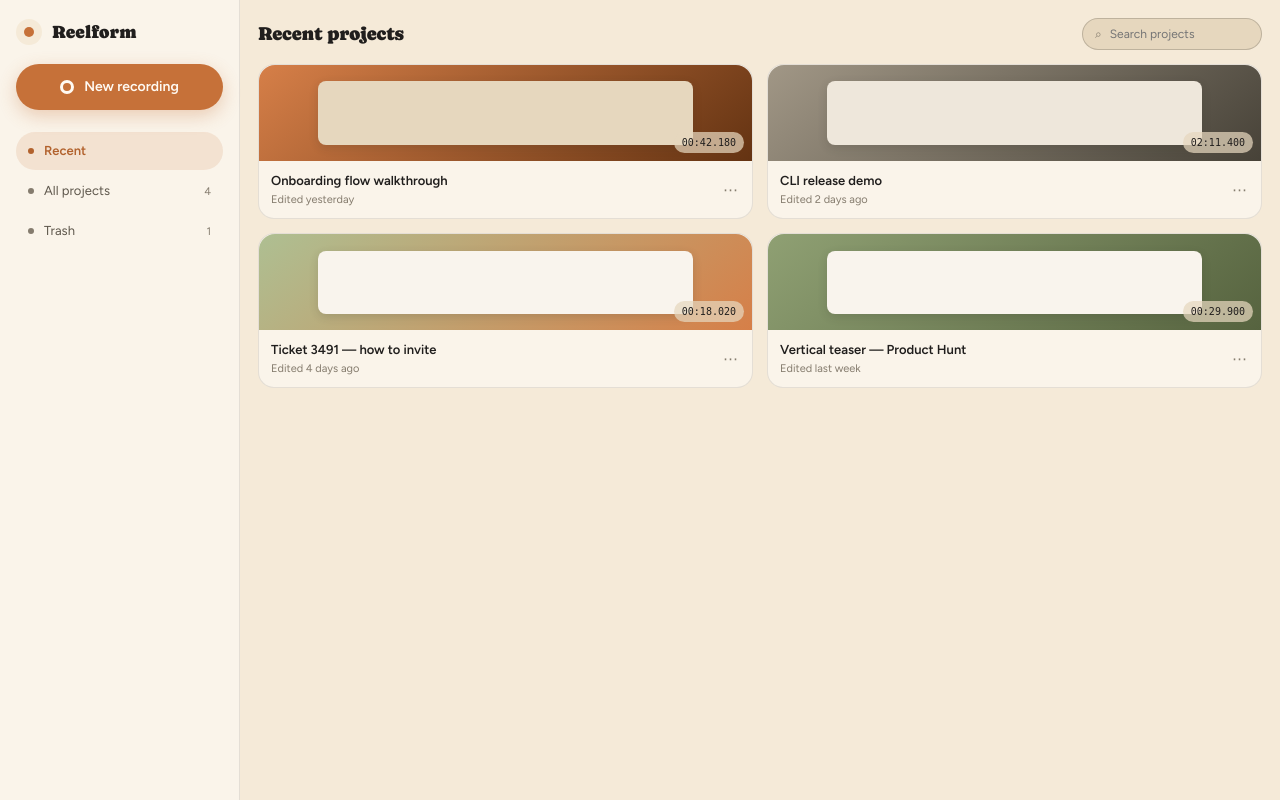
Test: Launcher project card menu › closes on an outside click
Click the button named "More actions for CLI release demo". click: click(1240, 191)
box: 1226,177 -> 1253,204
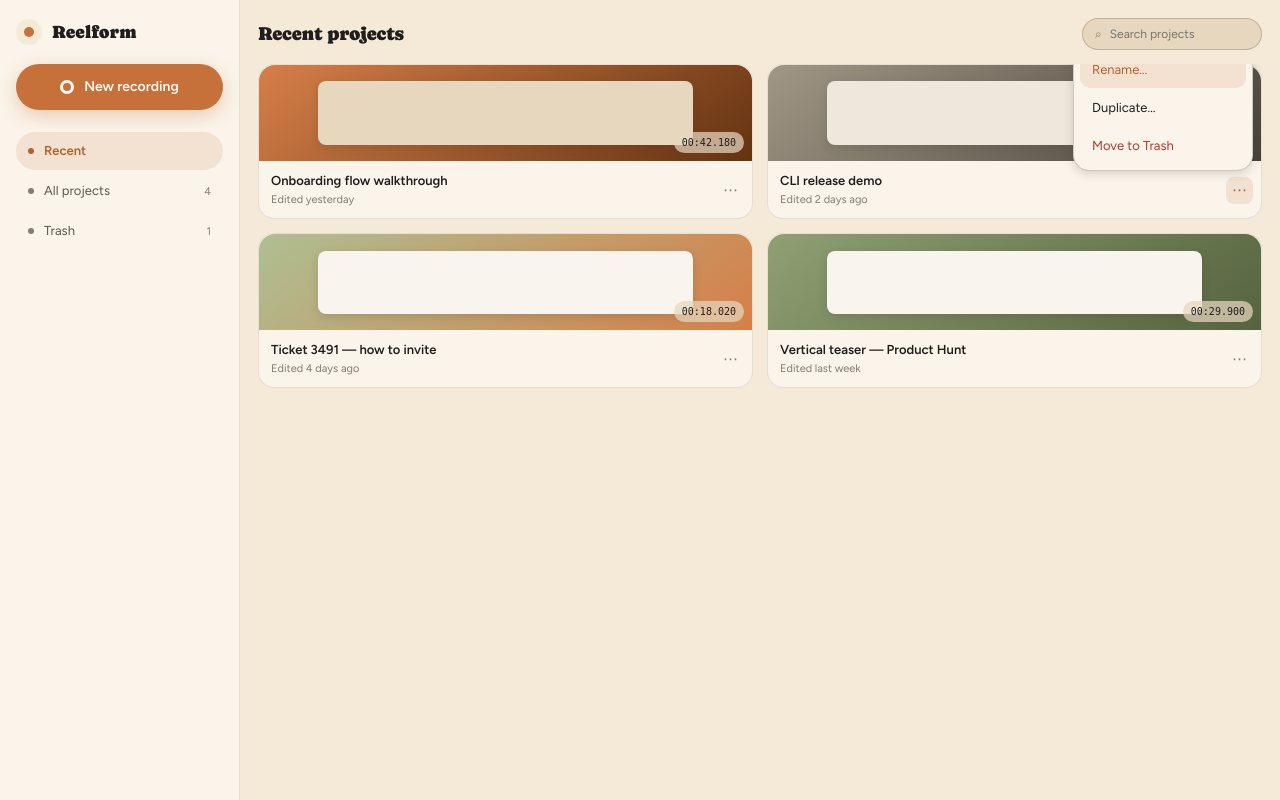
Press the mouse on the element that starts with "Reelform" at (640, 400), box 0,0 -> 1279,799
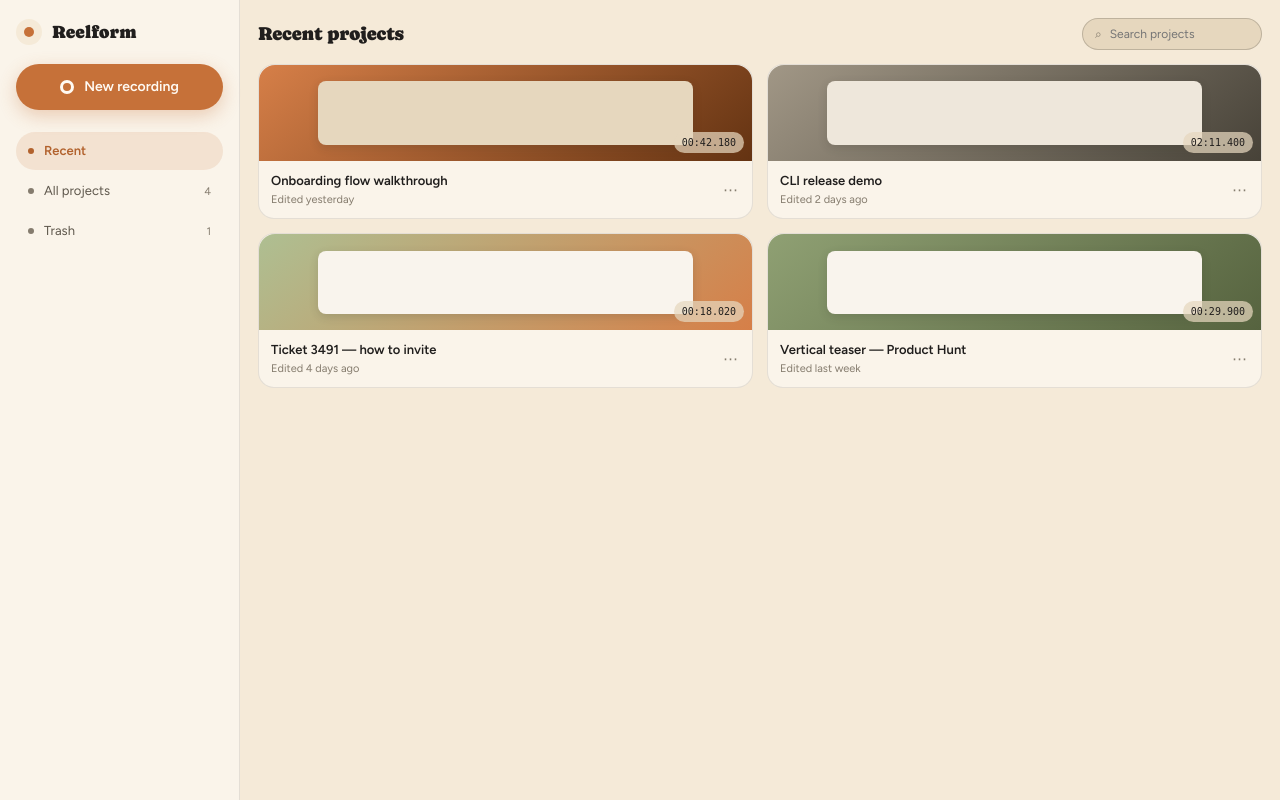
Check: the menu is gone
